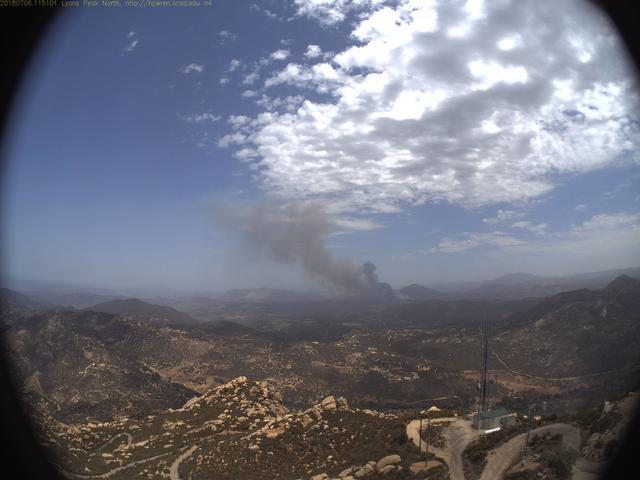smoke: (192, 189, 418, 319)
